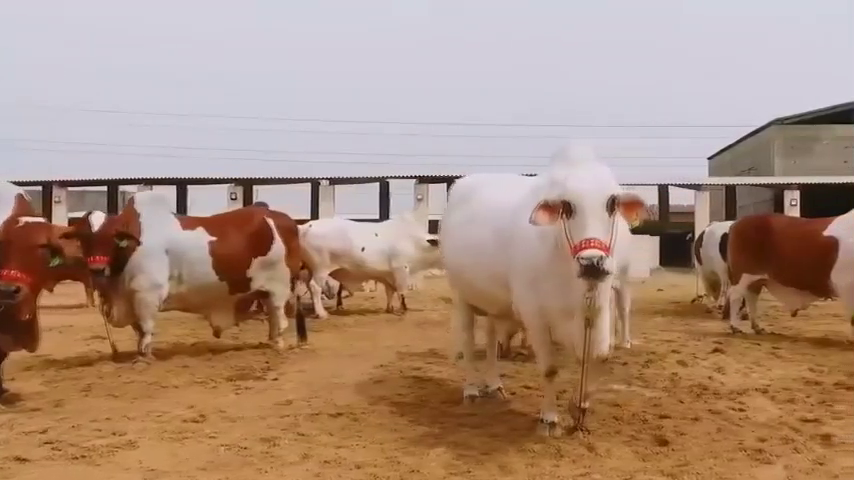bo: (428, 130, 655, 435), (76, 162, 306, 367), (726, 200, 854, 354), (295, 195, 440, 316), (1, 172, 65, 403), (680, 205, 735, 314)
